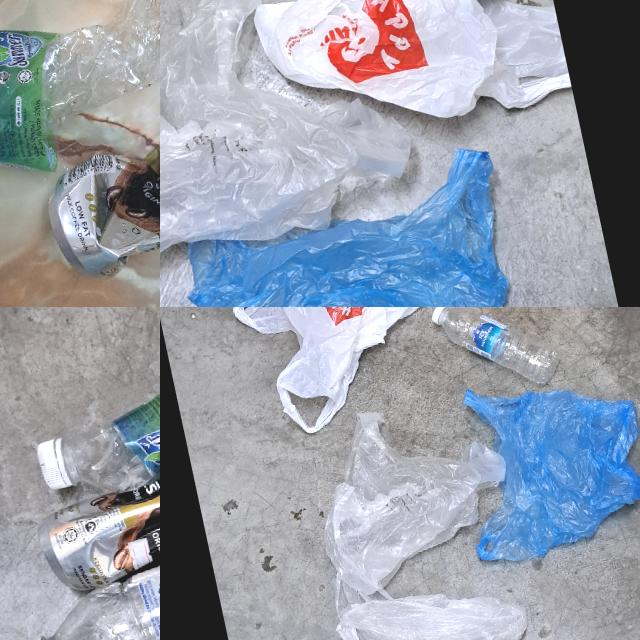garrafa plástica: (0, 0, 160, 205), (26, 493, 160, 640), (53, 342, 160, 502), (438, 307, 562, 400)
lata: (37, 110, 160, 286), (28, 451, 160, 598)
sacola plástica: (160, 0, 424, 270), (171, 146, 535, 307), (217, 0, 573, 158), (299, 386, 526, 602), (443, 356, 640, 570), (222, 307, 460, 446), (331, 570, 536, 640)
tampa plástica: (36, 437, 73, 492), (428, 307, 449, 326)
